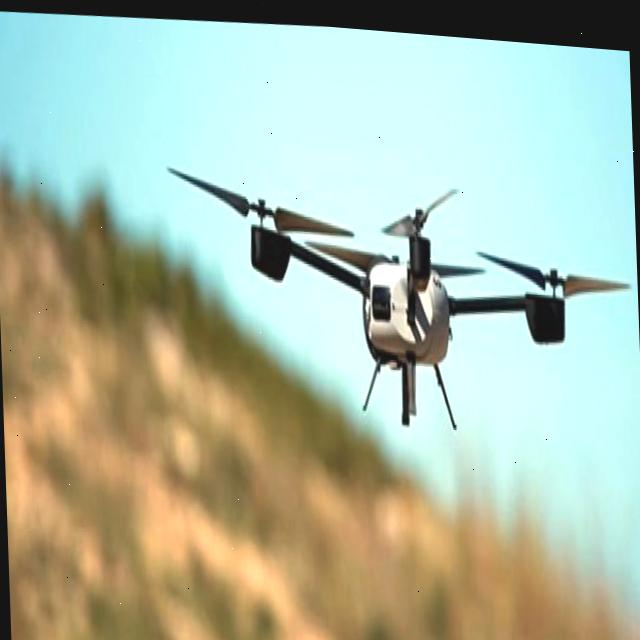drone: (146, 100, 640, 449)
